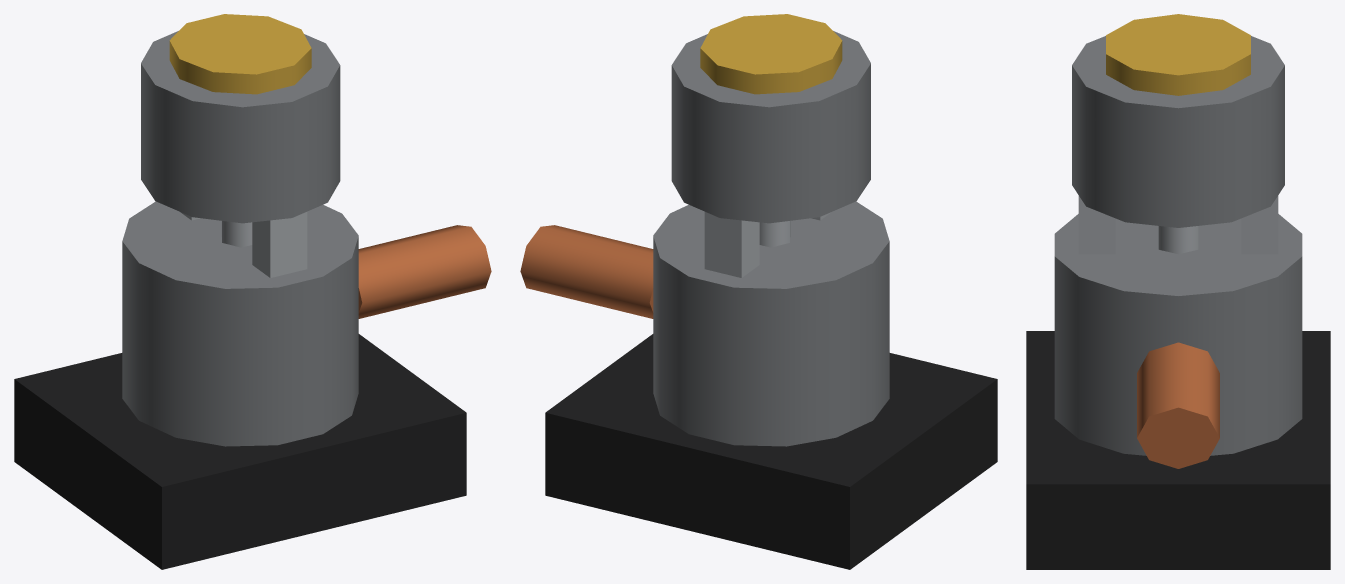
The picture shows the model from 3 angles, left to right: view 1: azimuth 30°, elevation 25°; view 2: azimuth 150°, elevation 25°; view 3: azimuth 270°, elevation 25°; orthographic projection. The views are drawn at different scales.
Parts seen in each view (by area): view 1: parametric-variant-machine-service-e98fdae7fc24dd3b7b05; view 2: parametric-variant-machine-service-e98fdae7fc24dd3b7b05; view 3: parametric-variant-machine-service-e98fdae7fc24dd3b7b05.
Part boxes in pixels (x1,y1,x2,y2): parametric-variant-machine-service-e98fdae7fc24dd3b7b05: (14, 14, 491, 569); parametric-variant-machine-service-e98fdae7fc24dd3b7b05: (520, 14, 997, 569); parametric-variant-machine-service-e98fdae7fc24dd3b7b05: (1026, 14, 1330, 569).
Bounding box in the file's own units: 1.2 × 1.3 × 0.8.
